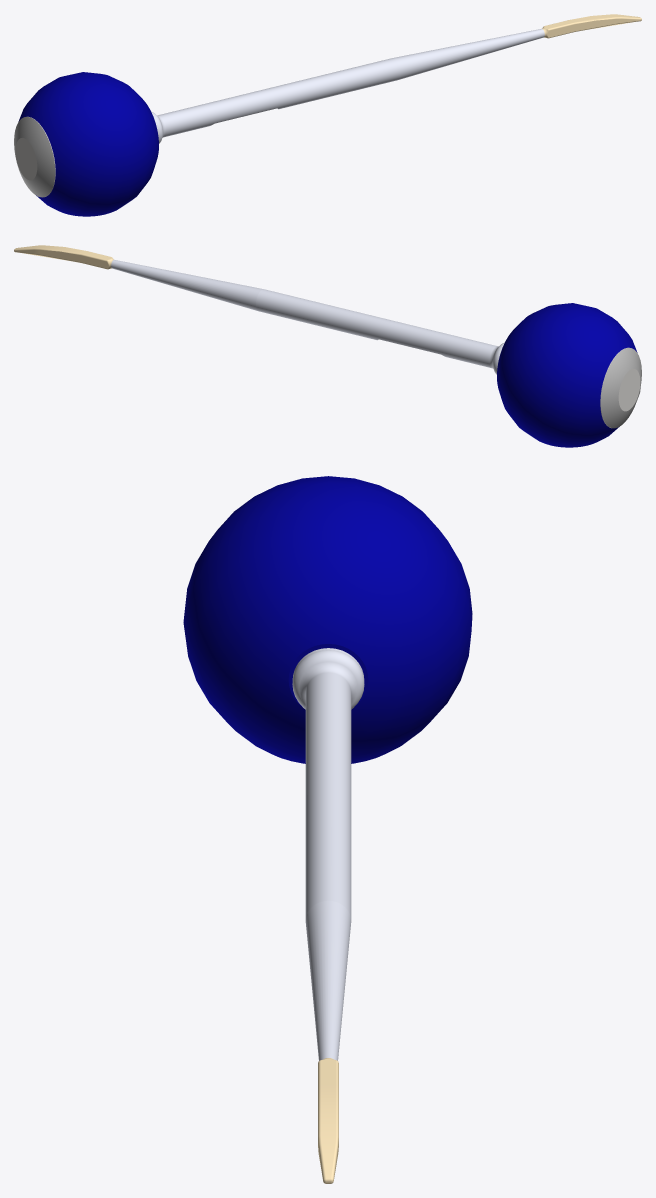
File: Andy - 01-0008P0_A.fbx
3 views of the same model, one above another, from view 1: azimuth 30°, elevation 25°; view 2: azimuth 150°, elevation 25°; view 3: azimuth 270°, elevation 25° (orthographic). The views are drawn at different scales.
Parts seen in each view (by area): view 1: Object.008, Object.009, Object.013, Object.007, Object.012; view 2: Object.008, Object.009, Object.013, Object.007, Object.012; view 3: Object.008, Object.009, Object.007.
Boxes of the visible parts, x1=… form: Object.008: x1=18, y1=72, x2=158, y2=216; Object.009: x1=151, y1=29, x2=544, y2=143; Object.013: x1=14, y1=116, x2=55, y2=197; Object.007: x1=542, y1=14, x2=641, y2=38; Object.012: x1=15, y1=116, x2=55, y2=196; Object.008: x1=497, y1=303, x2=637, y2=447; Object.009: x1=111, y1=260, x2=504, y2=374; Object.013: x1=600, y1=347, x2=641, y2=428; Object.007: x1=14, y1=245, x2=113, y2=269; Object.012: x1=600, y1=347, x2=640, y2=427; Object.008: x1=183, y1=476, x2=472, y2=763; Object.009: x1=292, y1=648, x2=364, y2=1060; Object.007: x1=318, y1=1058, x2=338, y2=1183.
Bounding box in the file's own units: 24.86 × 4.76 × 5.06.
